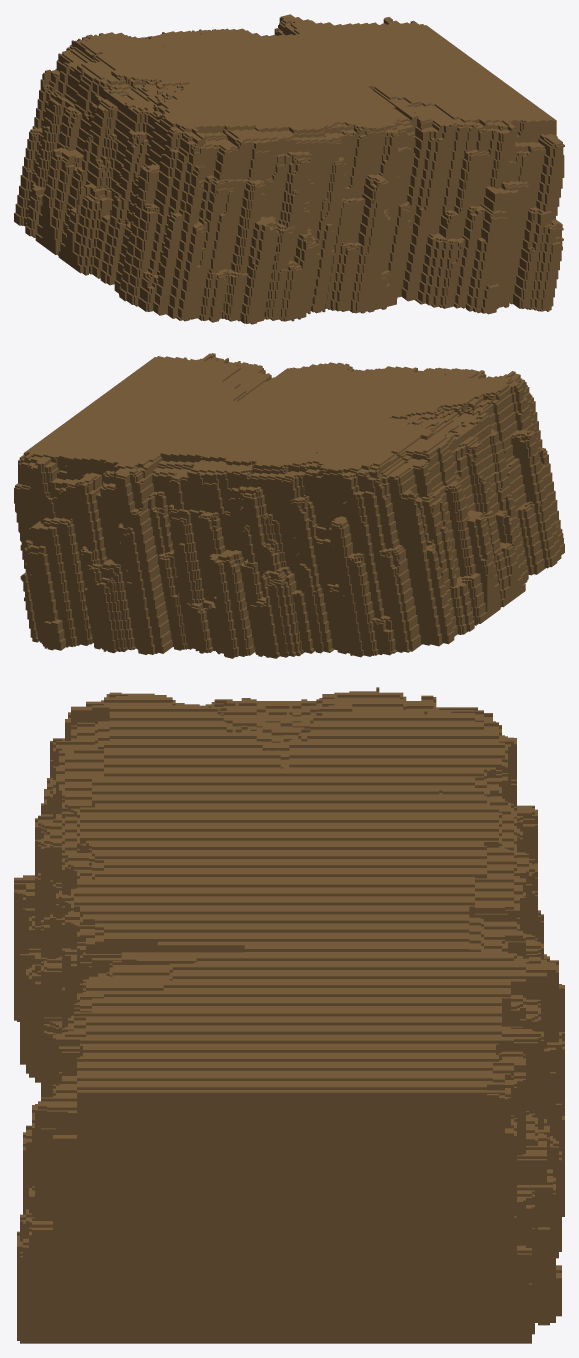
Rendered from forest1.1-121.obj.
3 renders of one model, top to bottom at view 1: azimuth 30°, elevation 25°; view 2: azimuth 150°, elevation 25°; view 3: azimuth 270°, elevation 25°, orthographic. The views are drawn at different scales.
Bounding box in the file's own units: 25.6 × 14.2 × 18.4.
Materials: 1 (1 with a texture image).
